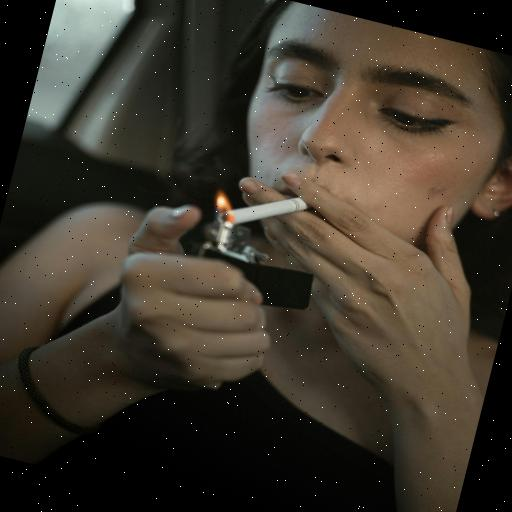terdeteksi merokok: (186, 60, 408, 283)
